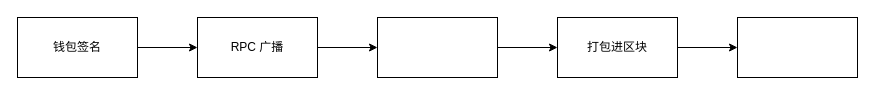
Image size: 875x95. Some labels were removed from this diagram. The shapes that lost their labels are listed below. From the top down, each one's centre as x and y in pixels, then its label:
At [437,47]: "交易哈希".
At [797,47]: "回执 status".
